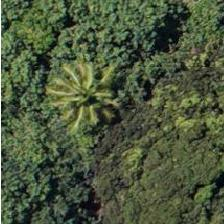coconut_tree: (48, 52, 138, 142)
